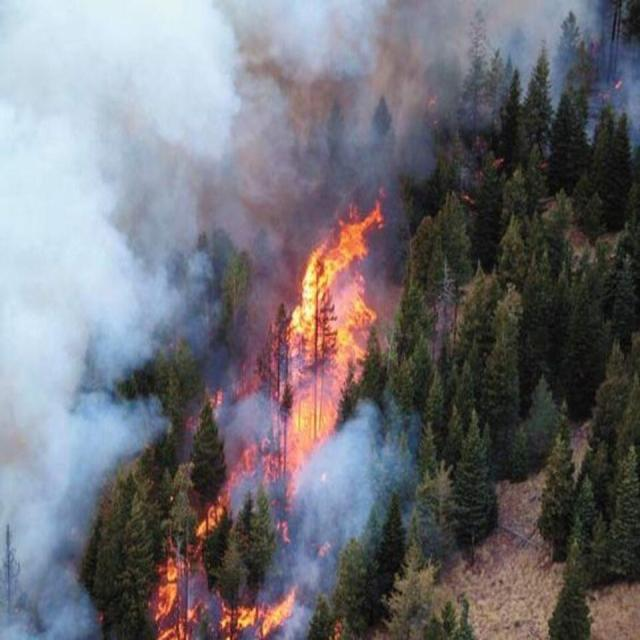Fire: (282, 205, 382, 420), (156, 551, 182, 640), (233, 604, 286, 632)
Smoke: (7, 26, 163, 538), (292, 438, 389, 558)
